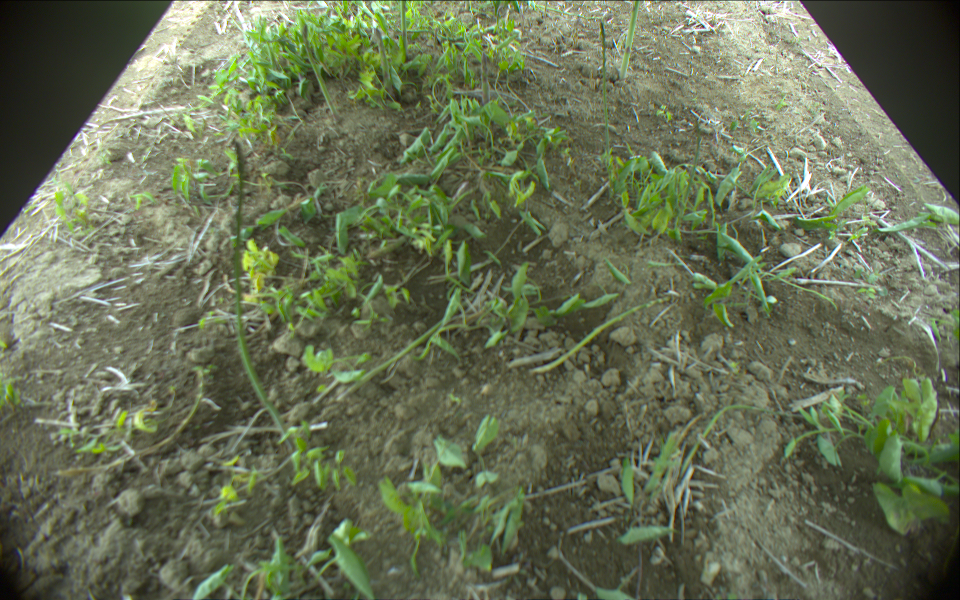aspa: (223, 139, 295, 453), (530, 292, 671, 372), (600, 21, 620, 195), (304, 30, 338, 119), (678, 121, 704, 229), (618, 1, 640, 87), (374, 27, 392, 93), (478, 45, 492, 106), (399, 1, 410, 56)
